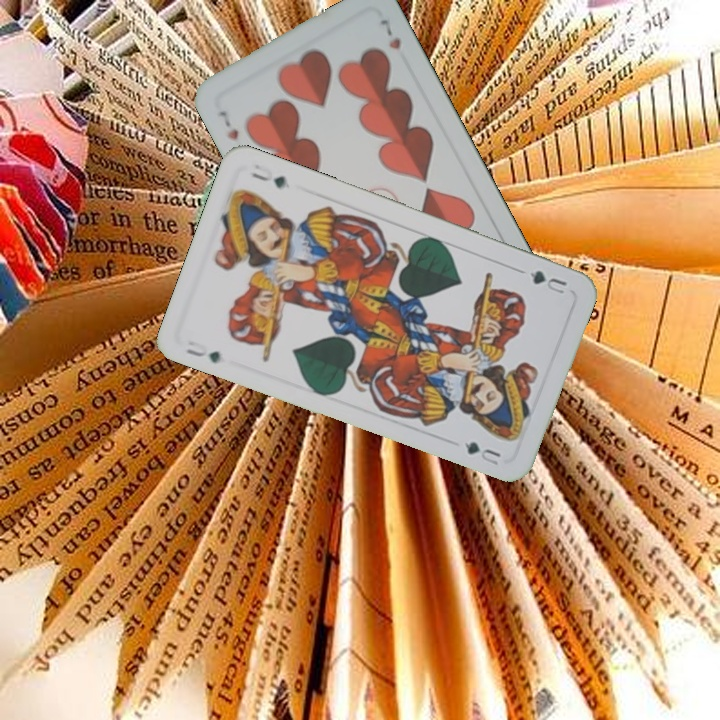GU: (525, 266, 570, 297), (182, 336, 223, 366)
H7: (213, 106, 242, 143)
